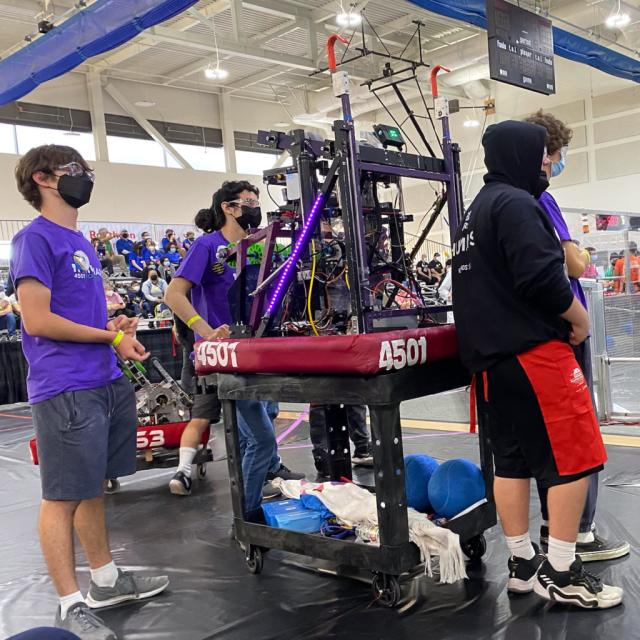robot: (187, 27, 482, 380)
